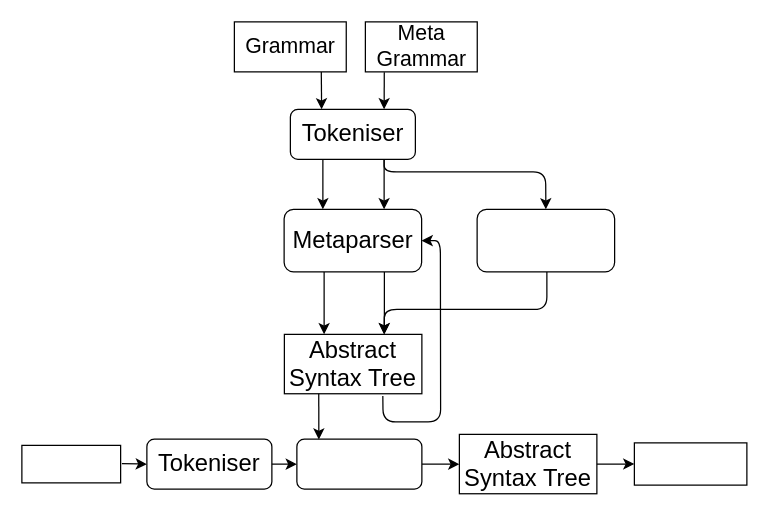
Some shapes in this 769 by 516 pixel diagram are drawn without their labels. The shapes that lost their labels are listed below. From the top down, each one's centre as x and y in pixels, then its label:
At (545,240): "Bootstrap Metaparser".
At (71,463): "Text file".
At (359,463): "Parser".
At (690,463): "Program".
